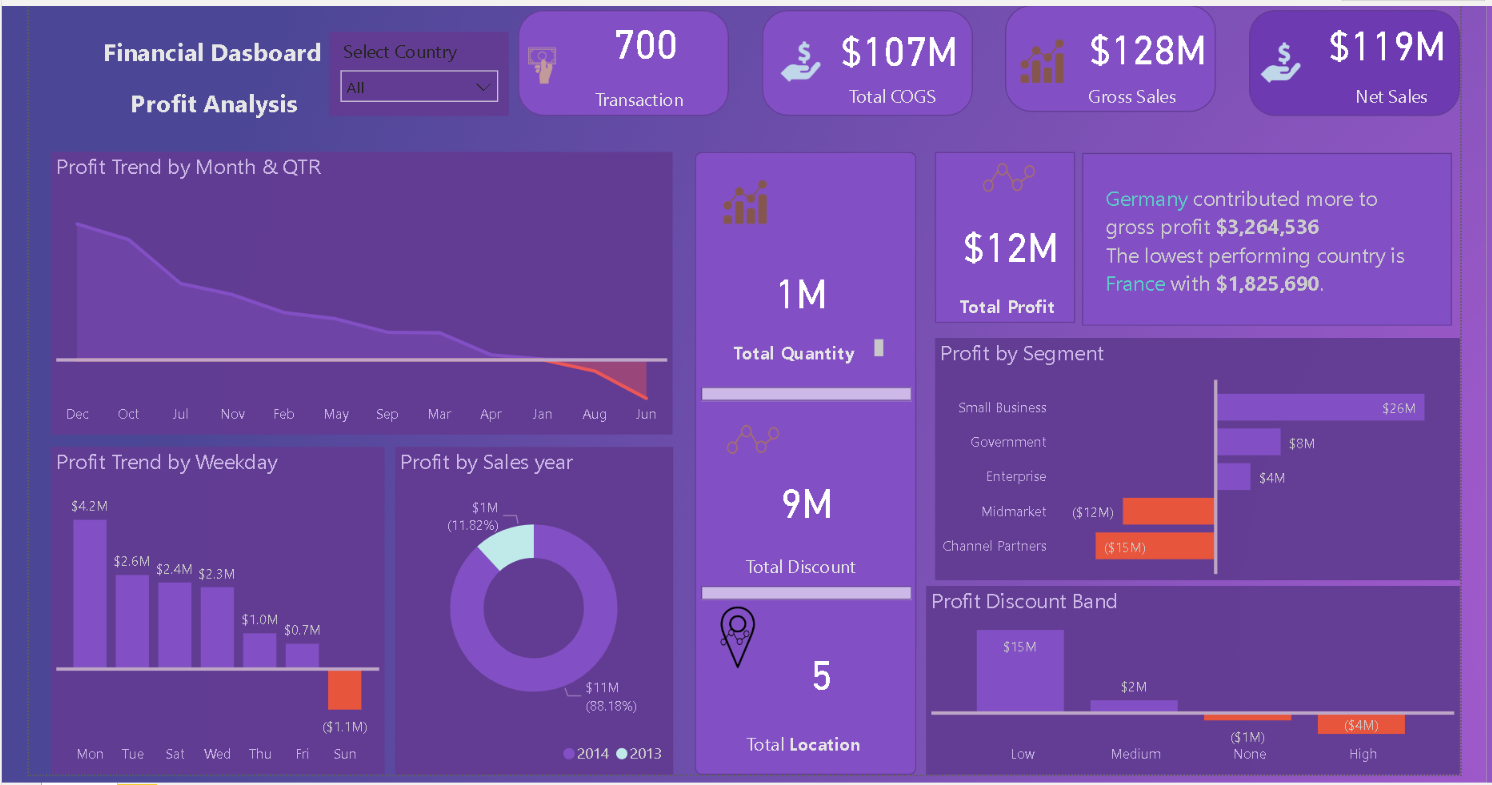

What the dashboard file says about the page in this screenshot:
{"tool":"powerbi","page":{"name":"Page 1","canvas":[1280,720],"ordinal":0},"visuals":[{"type":"shape","box":[437.4,35.8,188.7,94.8],"z":0},{"type":"shape","box":[655.3,35.8,188.7,94.8],"z":1000},{"type":"shape","box":[872.9,31.3,188.7,95.7],"z":2000},{"type":"shape","box":[1091.2,35.8,188.7,94.8],"z":3000},{"type":"image","box":[661.9,54.6,56.3,56.3],"z":4000},{"type":"image","box":[872.9,55.5,67.1,51.9],"z":5000},{"type":"image","box":[437.4,63.5,42.9,43.8],"z":6000},{"type":"image","box":[1091.2,55.5,56.3,56.3],"z":7000},{"type":"shape","box":[595.7,162.8,198,557.2],"z":8000},{"type":"shape","box":[810.3,162.8,125.2,152.9],"z":9000},{"type":"card","fields":{"Values":["AllMeasures.Total Discount"]},"box":[630.6,432,130.6,84.1],"z":10000},{"type":"textbox","box":[491.9,98.4,108.2,32.2],"z":11000},{"type":"card","fields":{"Values":["AllMeasures.Cost Goods Sold"]},"box":[718.2,27.7,119.9,84.1],"z":12000},{"type":"textbox","box":[718.2,95.7,108.2,32.2],"z":13000},{"type":"textbox","box":[1164.5,95.7,108.2,32.2],"z":14000},{"type":"textbox","box":[923,95.7,127,32.2],"z":15000},{"type":"card","fields":{"Values":["AllMeasures.Gross Sales"]},"box":[940,26.8,121.6,84.1],"z":16000},{"type":"card","fields":{"Values":["AllMeasures.Net Sales"]},"box":[1149.3,23.3,130.6,84.1],"z":17000},{"type":"textbox","box":[30.4,52.8,267.4,42],"z":18000},{"type":"textbox","box":[40.2,98.4,250.4,41.1],"z":19000},{"type":"areaChart","title":"Profit Trend by Month & QTR","fields":{"Y":["AllMeasures.Profit Positive","AllMeasures.Profit Negative"],"Category":["Calender.Month","Calender.QTR"]},"box":[19.7,162.8,556.3,253.1],"z":20000},{"type":"columnChart","title":"Profit Trend by Weekday","fields":{"Category":["Calender.WeekDay"],"Y":["AllMeasures.Total Profit"]},"box":[19.7,426.6,298.7,293],"z":21000},{"type":"donutChart","title":"Profit by Sales year","fields":{"Category":["Calender.Year"],"Y":["AllMeasures.Total Profit"]},"box":[327.4,426.6,248.6,293.4],"z":22000},{"type":"image","box":[617.1,398,60.8,43.8],"z":23000},{"type":"image","box":[607.3,181.6,67.1,51.9],"z":24000},{"type":"shape","box":[601,373,188.7,12.5],"z":25000},{"type":"shape","box":[601,551,188.7,12.5],"z":26000},{"type":"textbox","box":[607.3,325.6,161.9,34.9],"z":27000},{"type":"textbox","box":[613.6,516.1,153.8,34.9],"z":28000},{"type":"textbox","box":[625.2,675.3,136,34.9],"z":29000},{"type":"card","fields":{"Values":["AllMeasures.# Transaction"]},"box":[486.6,21.5,130.6,84.1],"z":30000},{"type":"card","fields":{"Values":["Sum(financials.Units Sold)"]},"box":[625.2,245.1,130.6,84.1],"z":31000},{"type":"card","fields":{"Values":["Count(financials.Country)"]},"box":[643.1,585.8,130.6,84.1],"z":32000},{"type":"image","box":[846.1,163.7,60.8,43.8],"z":33000},{"type":"textbox","box":[810.3,283.5,129.7,34.9],"z":34000},{"type":"card","fields":{"Values":["AllMeasures.Total Profit"]},"box":[826.4,203,102.9,84.1],"z":35000},{"type":"shape","box":[941.8,163.7,330.9,154.7],"z":36000},{"type":"image","box":[601,563.5,65.3,67.1],"z":40000},{"type":"barChart","title":"Profit by Segment","fields":{"Y":["AllMeasures.Total Profit"],"Category":["financials.Segment"]},"box":[810.3,329.1,469.6,216.4],"z":41000},{"type":"columnChart","title":"Profit Discount Band","fields":{"Y":["AllMeasures.Total Profit"],"Category":["financials.Discount Band"]},"box":[802.3,551,477.6,169],"z":42000},{"type":"slicer","fields":{"Values":["financials.Country"]},"box":[268.3,55.5,161,75.1],"z":42001},{"type":"textbox","box":[957.9,186,299.6,132.4],"z":42002}]}

Visuals, with their boxes on the page's 1280x720 design canvas (x1, y1, x2, y2). These are canvas units, not pixel positions in the 1492x785 screenshot, which may show the page scaled, cropped or inside an application window:
shape: (437, 36, 626, 131)
shape: (655, 36, 844, 131)
shape: (873, 31, 1062, 127)
shape: (1091, 36, 1280, 131)
image: (662, 55, 718, 111)
image: (873, 56, 940, 107)
image: (437, 64, 480, 107)
image: (1091, 56, 1148, 112)
shape: (596, 163, 794, 720)
shape: (810, 163, 936, 316)
card - AllMeasures.Total Discount: (631, 432, 761, 516)
textbox: (492, 98, 600, 131)
card - AllMeasures.Cost Goods Sold: (718, 28, 838, 112)
textbox: (718, 96, 826, 128)
textbox: (1164, 96, 1273, 128)
textbox: (923, 96, 1050, 128)
card - AllMeasures.Gross Sales: (940, 27, 1062, 111)
card - AllMeasures.Net Sales: (1149, 23, 1280, 107)
textbox: (30, 53, 298, 95)
textbox: (40, 98, 291, 140)
"Profit Trend by Month & QTR" areaChart: (20, 163, 576, 416)
"Profit Trend by Weekday" columnChart: (20, 427, 318, 720)
"Profit by Sales year" donutChart: (327, 427, 576, 720)
image: (617, 398, 678, 442)
image: (607, 182, 674, 234)
shape: (601, 373, 790, 386)
shape: (601, 551, 790, 564)
textbox: (607, 326, 769, 360)
textbox: (614, 516, 767, 551)
textbox: (625, 675, 761, 710)
card - AllMeasures.# Transaction: (487, 22, 617, 106)
card - Sum(financials.Units Sold): (625, 245, 756, 329)
card - Count(financials.Country): (643, 586, 774, 670)
image: (846, 164, 907, 208)
textbox: (810, 284, 940, 318)
card - AllMeasures.Total Profit: (826, 203, 929, 287)
shape: (942, 164, 1273, 318)
image: (601, 564, 666, 631)
"Profit by Segment" barChart: (810, 329, 1280, 546)
"Profit Discount Band" columnChart: (802, 551, 1280, 720)
slicer - financials.Country: (268, 56, 429, 131)
textbox: (958, 186, 1258, 318)
